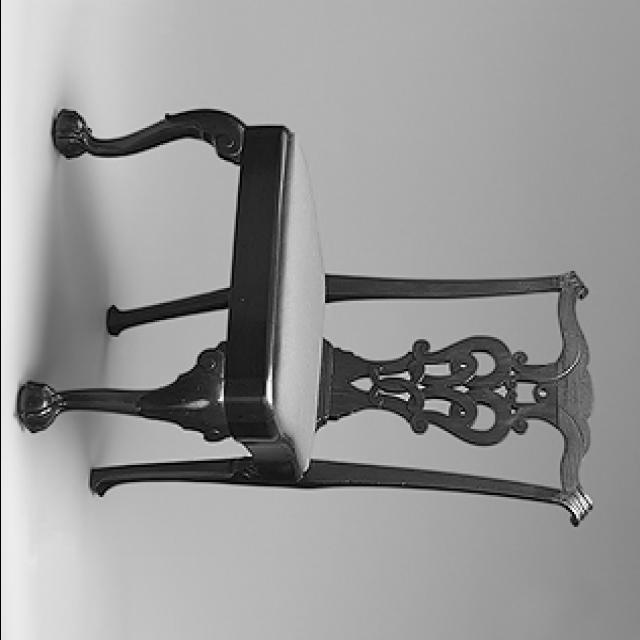chair: (15, 108, 598, 530)
